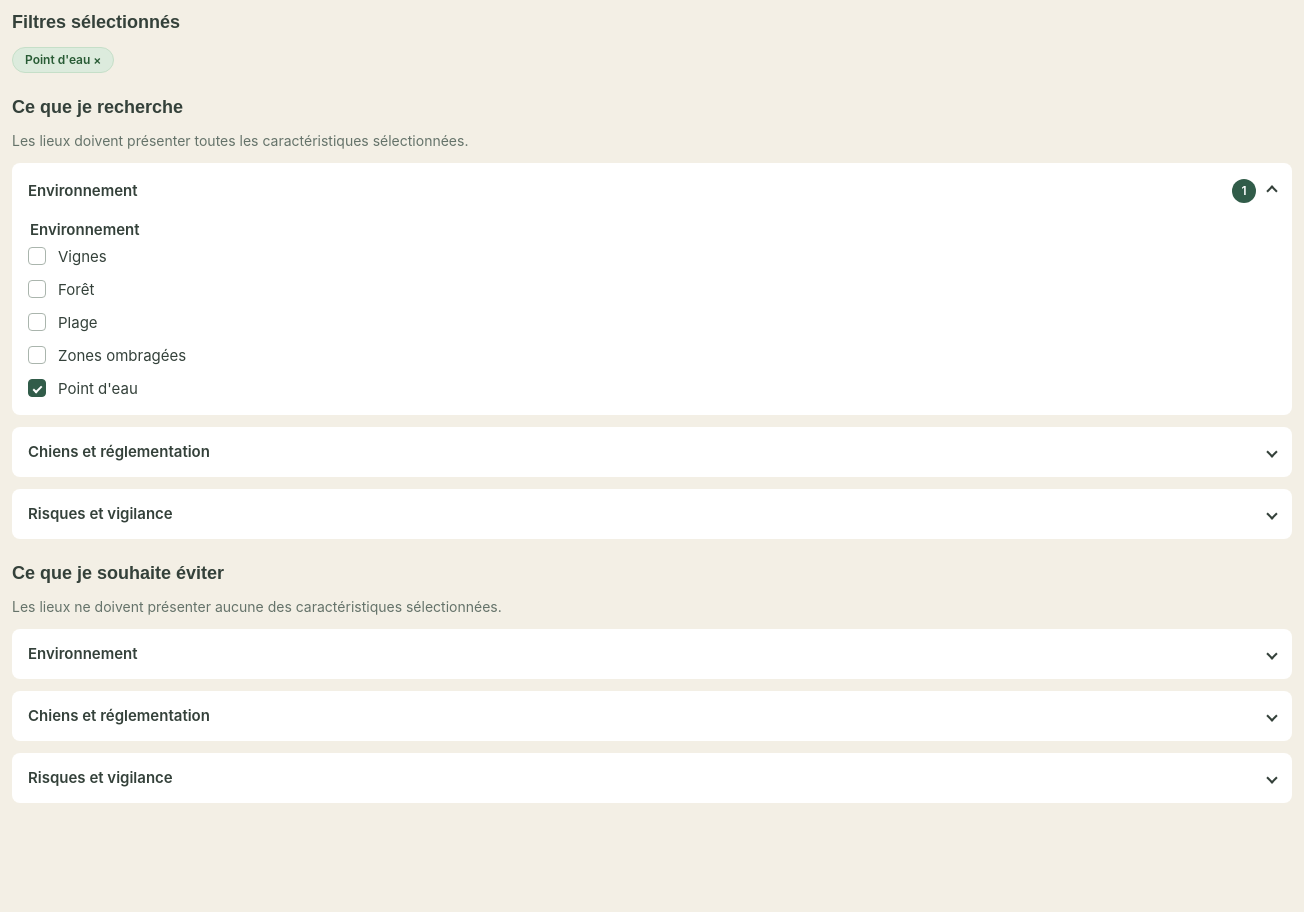
Test case: FilterPanel › allows a selected filter to be removed using its badge
The width and height of the screenshot is (1304, 912).
Click the button with aria-label "Retirer le filtre recherché : Point d'eau". click: (63, 59)
box: top-left (12, 46), bottom-right (114, 73)
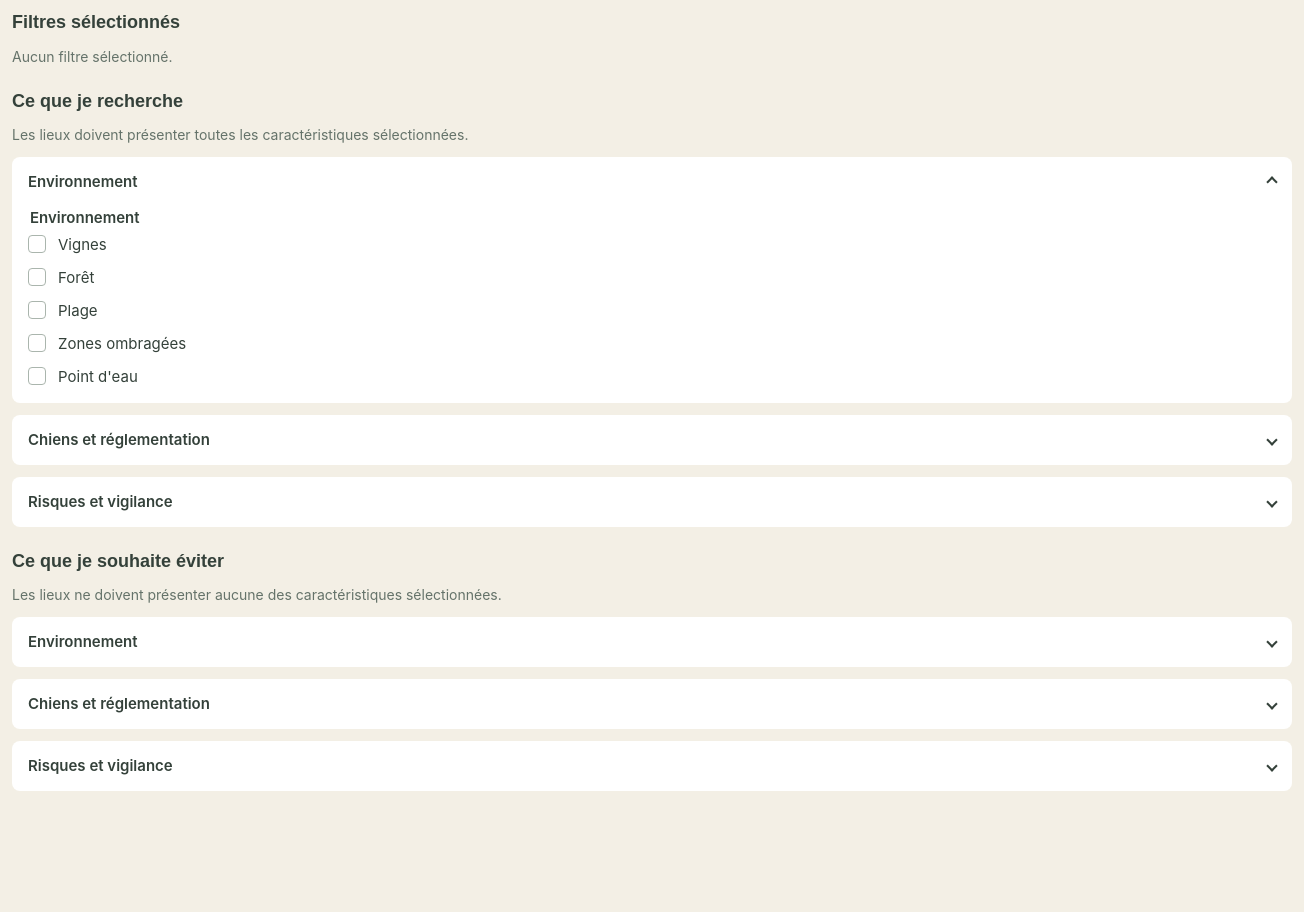
Now the text "Aucun filtre sélectionné." is shown, box top-left (12, 48), bottom-right (172, 65)
